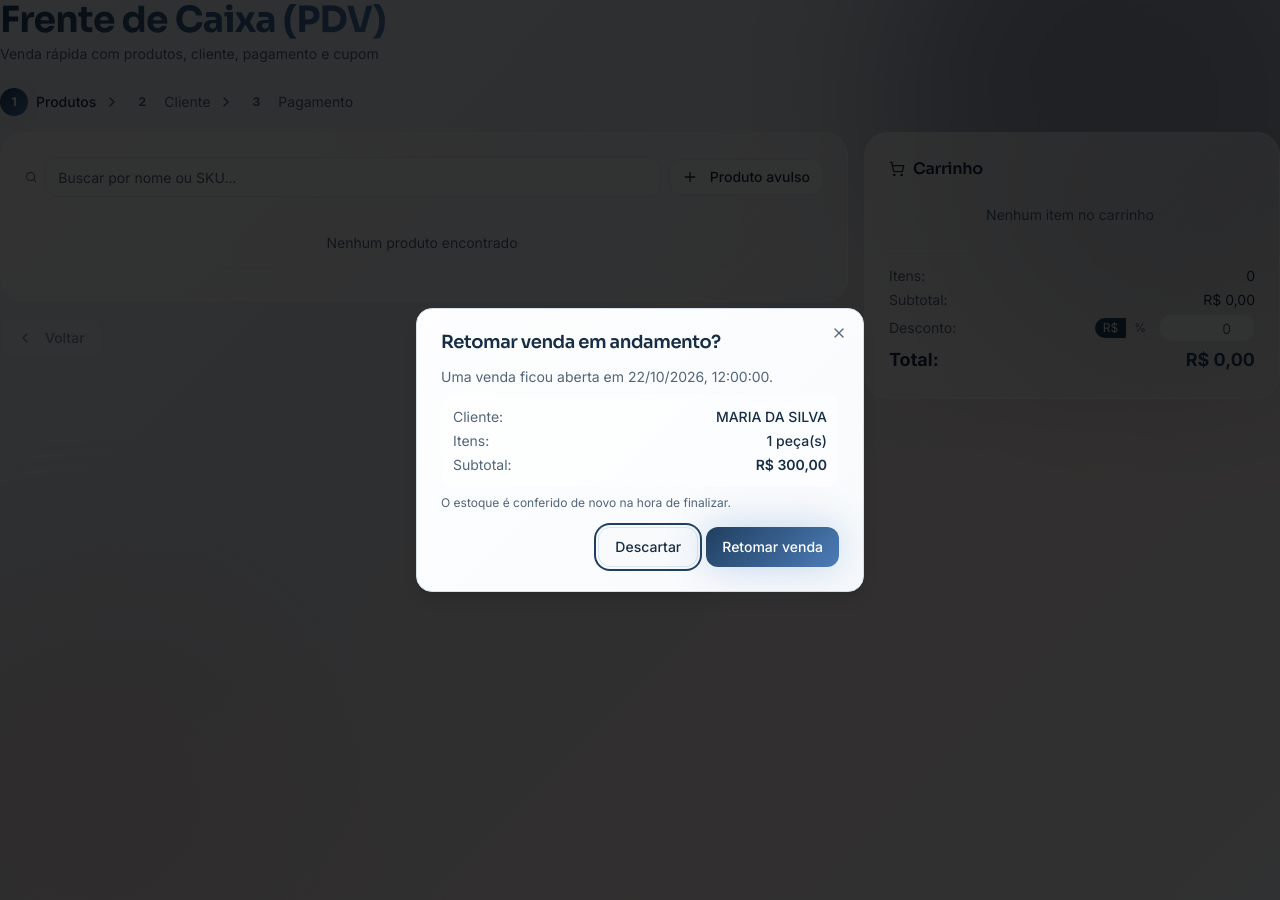
Test: PDV — acordo com a dívida antiga › mantendo separado: parcela só a compra, pela função de sempre
Later steps or results of the test are not shown.
Click the button "Retomar venda" at {"x": 773, "y": 547}, box [706,527,839,567]
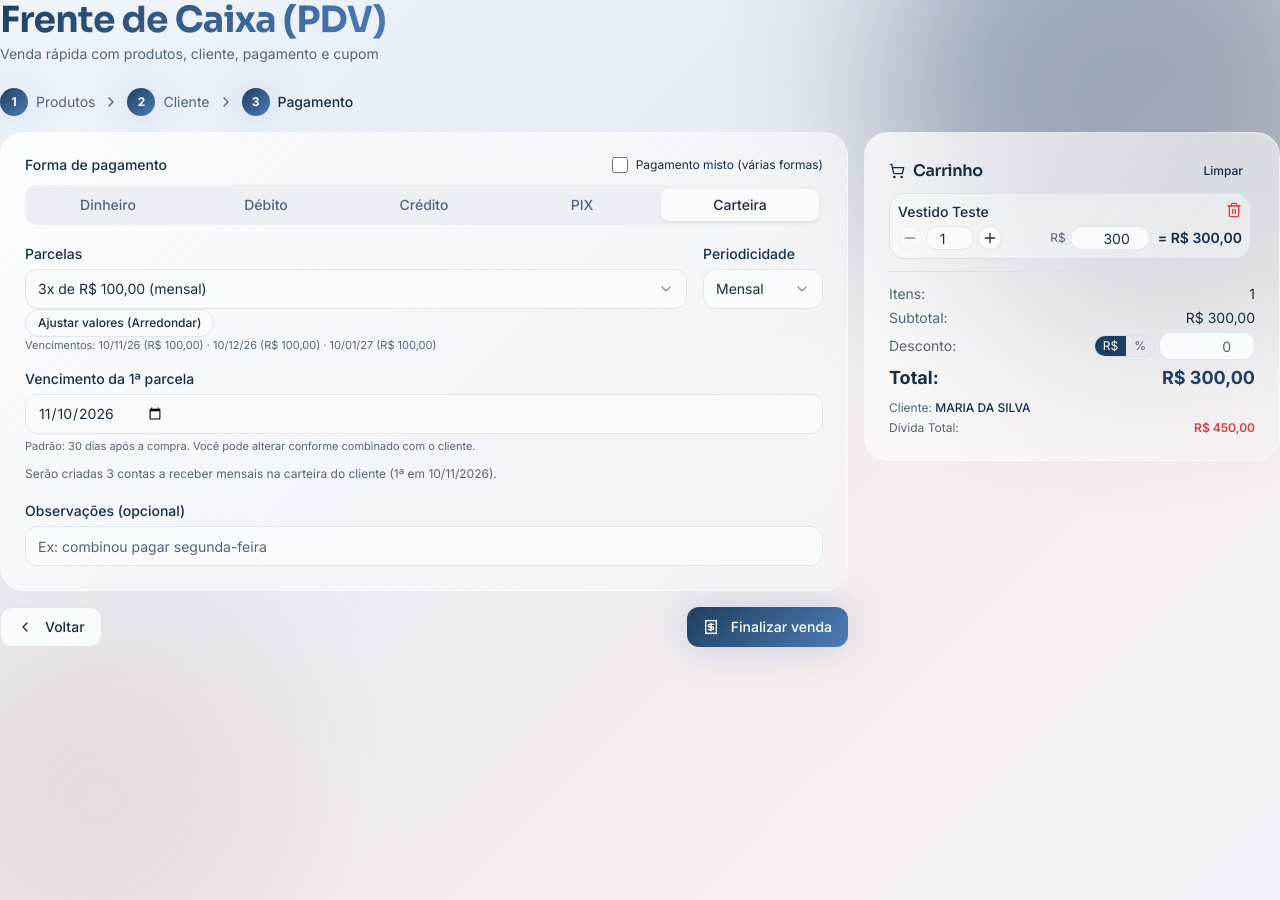
Click the button "Finalizar venda" at {"x": 767, "y": 627}, box [687,607,848,647]
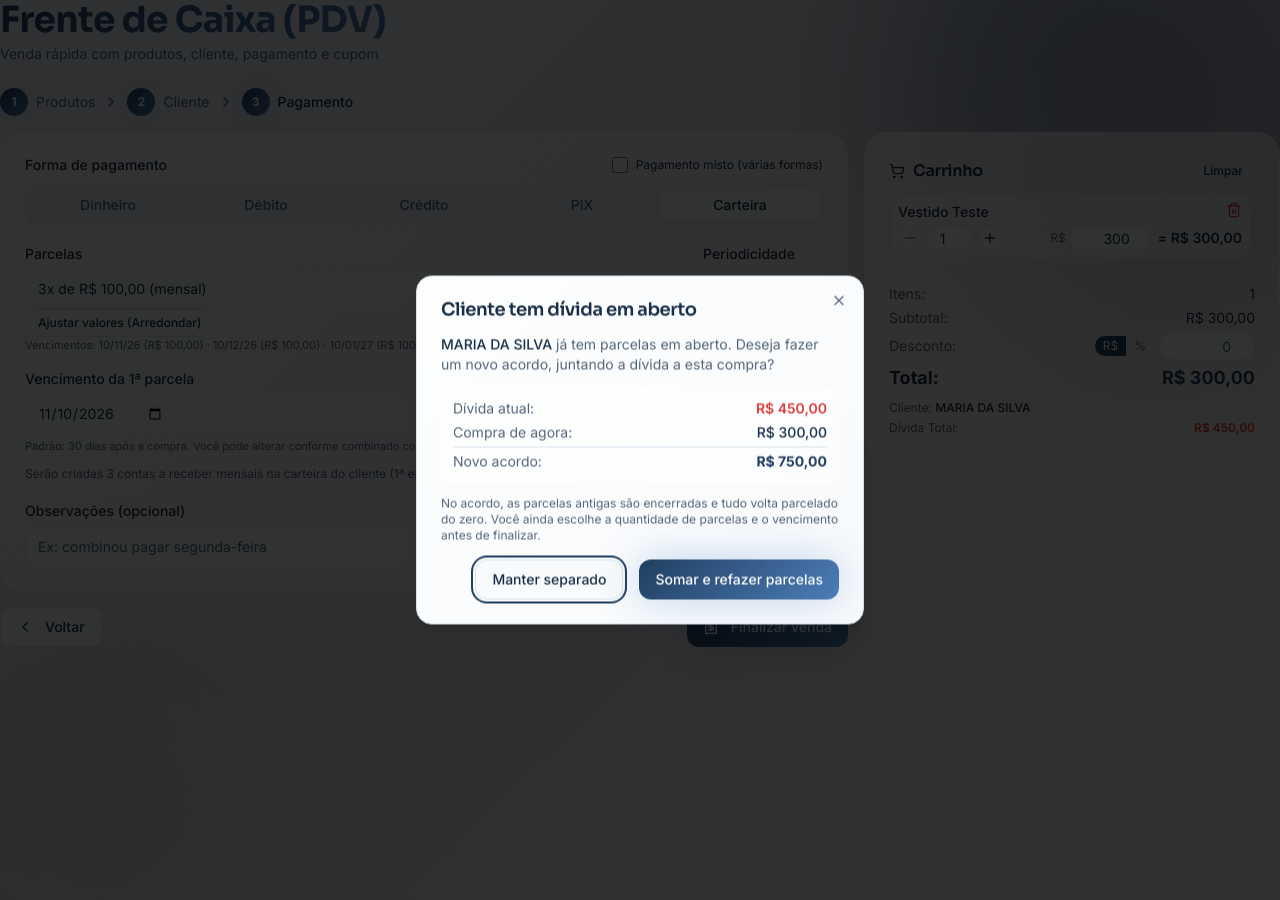
Click the button "Manter separado" at {"x": 549, "y": 580}, box [475,560,624,600]
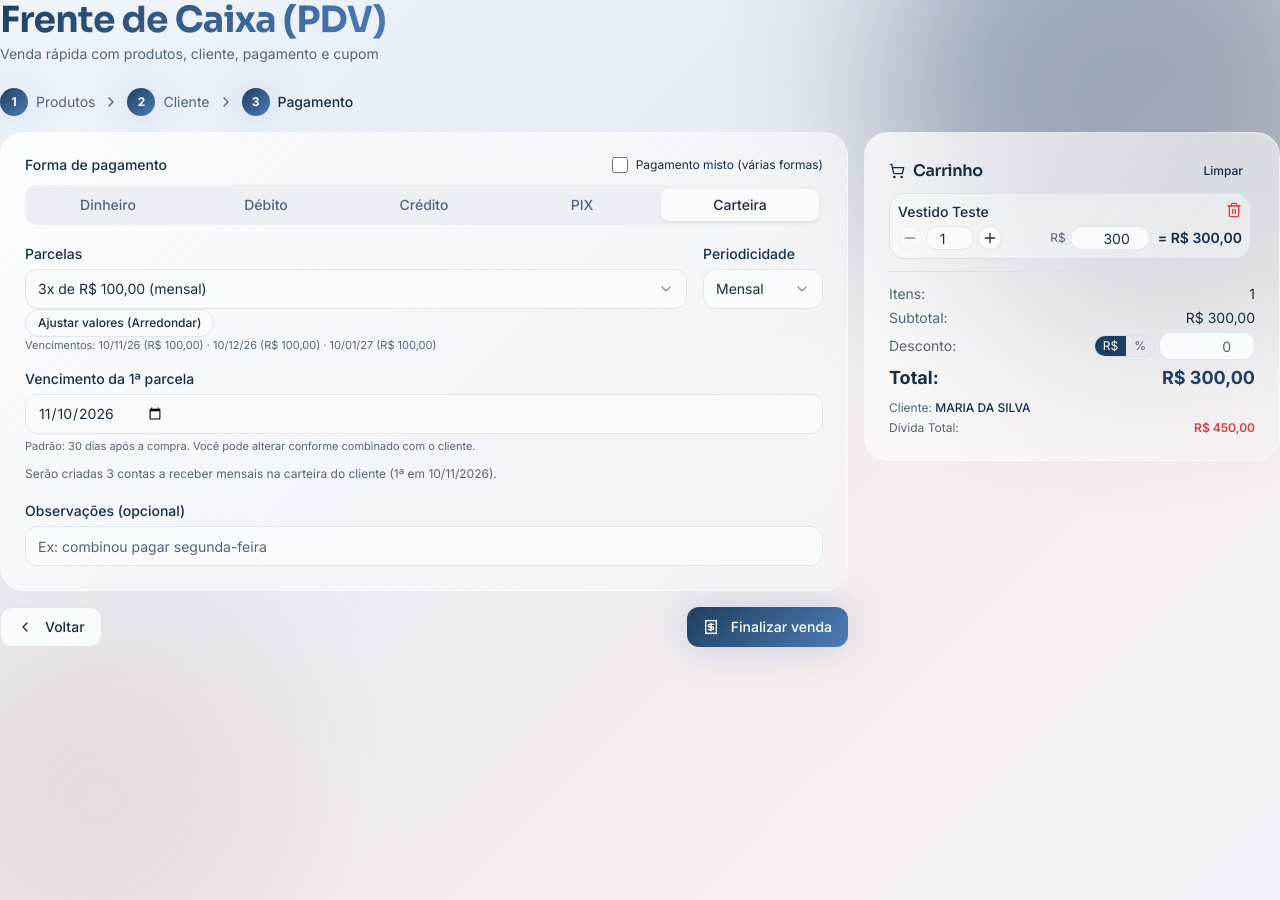
expect the heading "Cliente tem dívida em aberto" is gone: met
